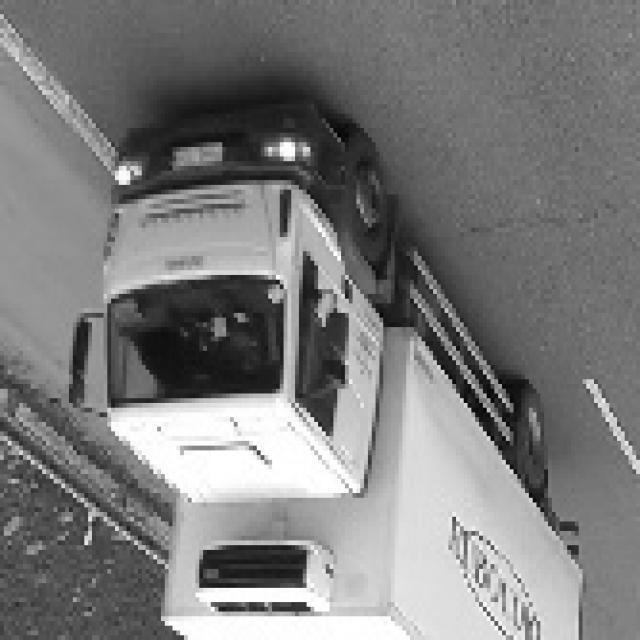truck: (54, 80, 412, 519)
